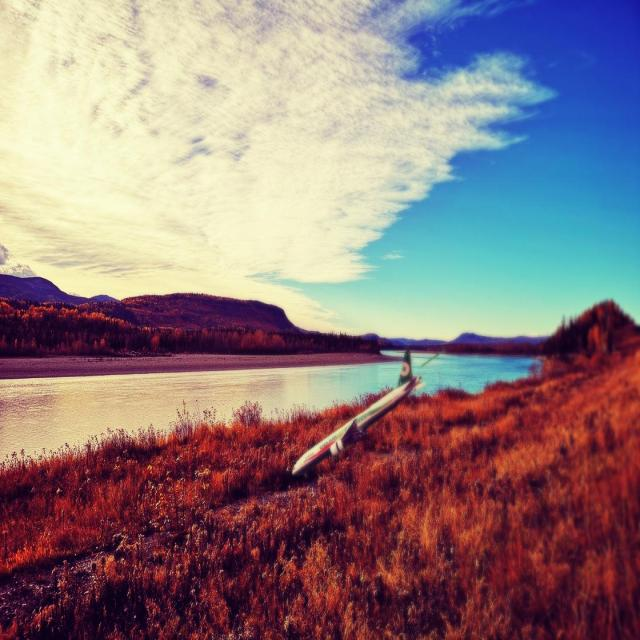airplane: (290, 348, 428, 478)
